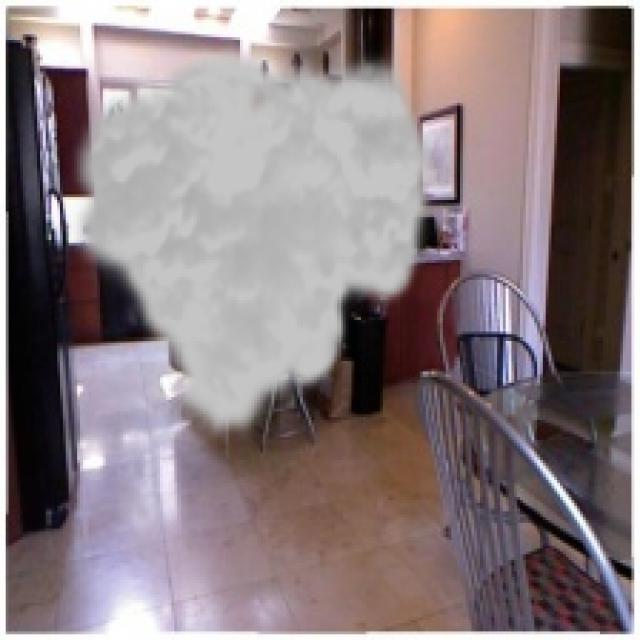smoke: (63, 43, 440, 446)
